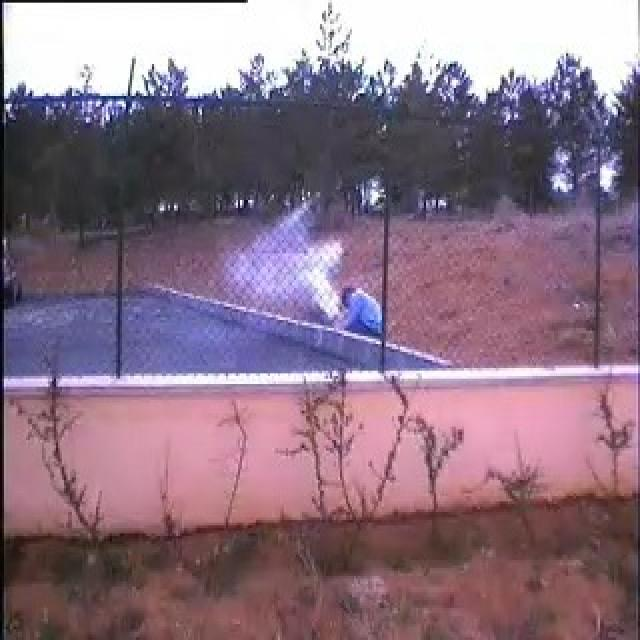smoke: (229, 215, 346, 314)
